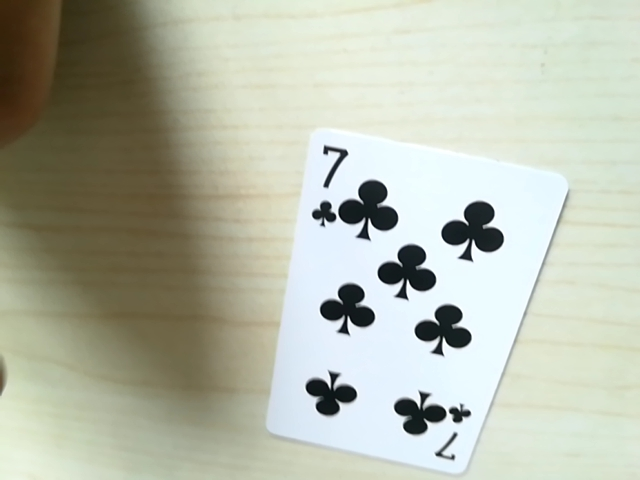mh 7: (308, 144, 347, 229), (434, 400, 471, 459)
